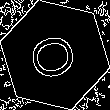O_E: (25, 27, 85, 83)
